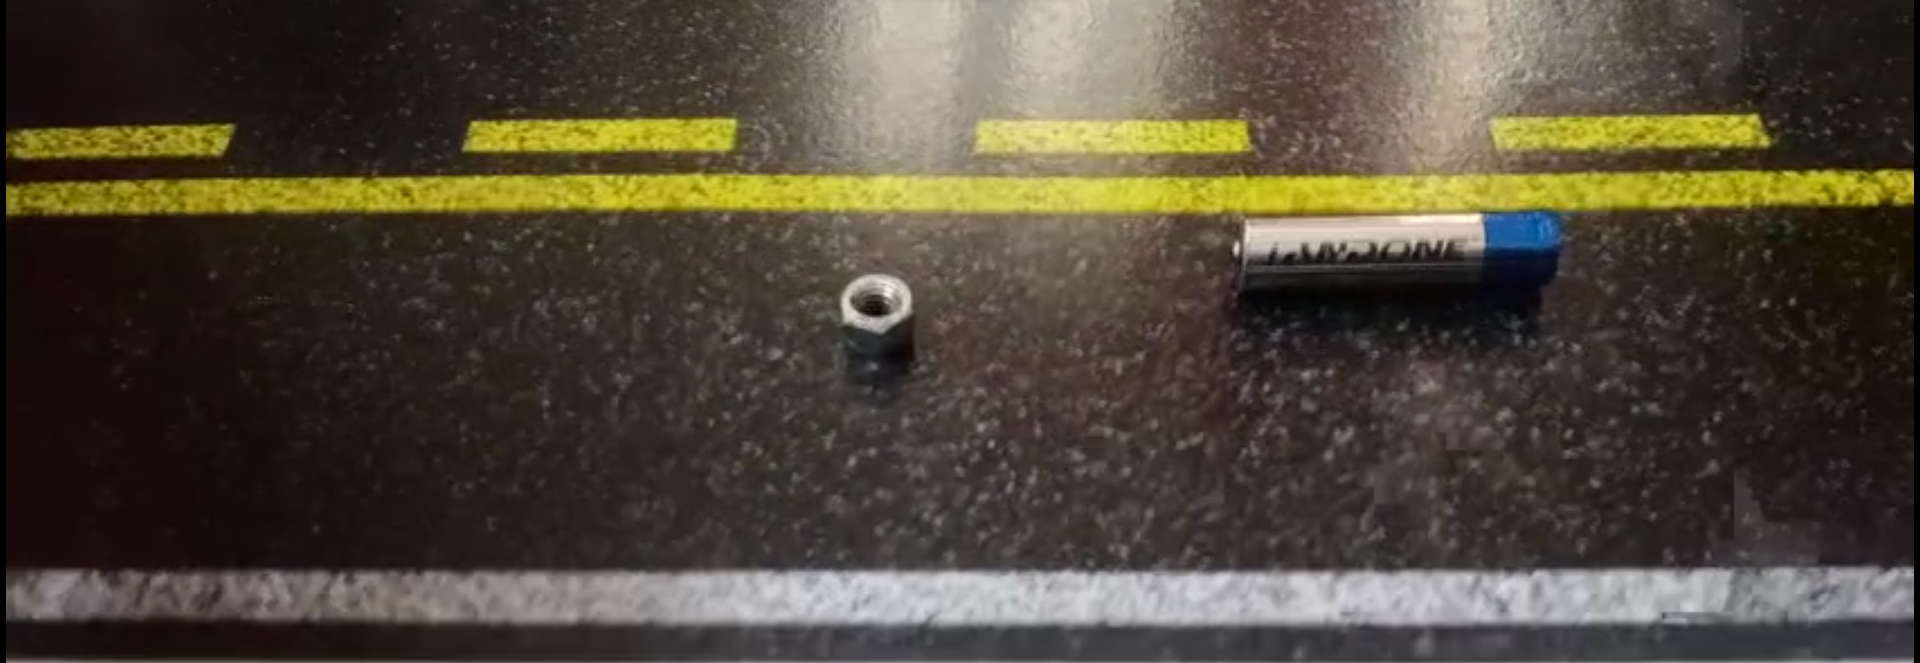metal: (1228, 211, 1569, 297), (833, 273, 920, 362)
